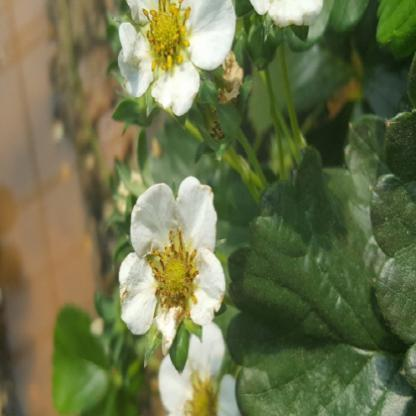Strawberry_Blossom_Blight: (143, 224, 203, 324), (142, 0, 196, 75)
